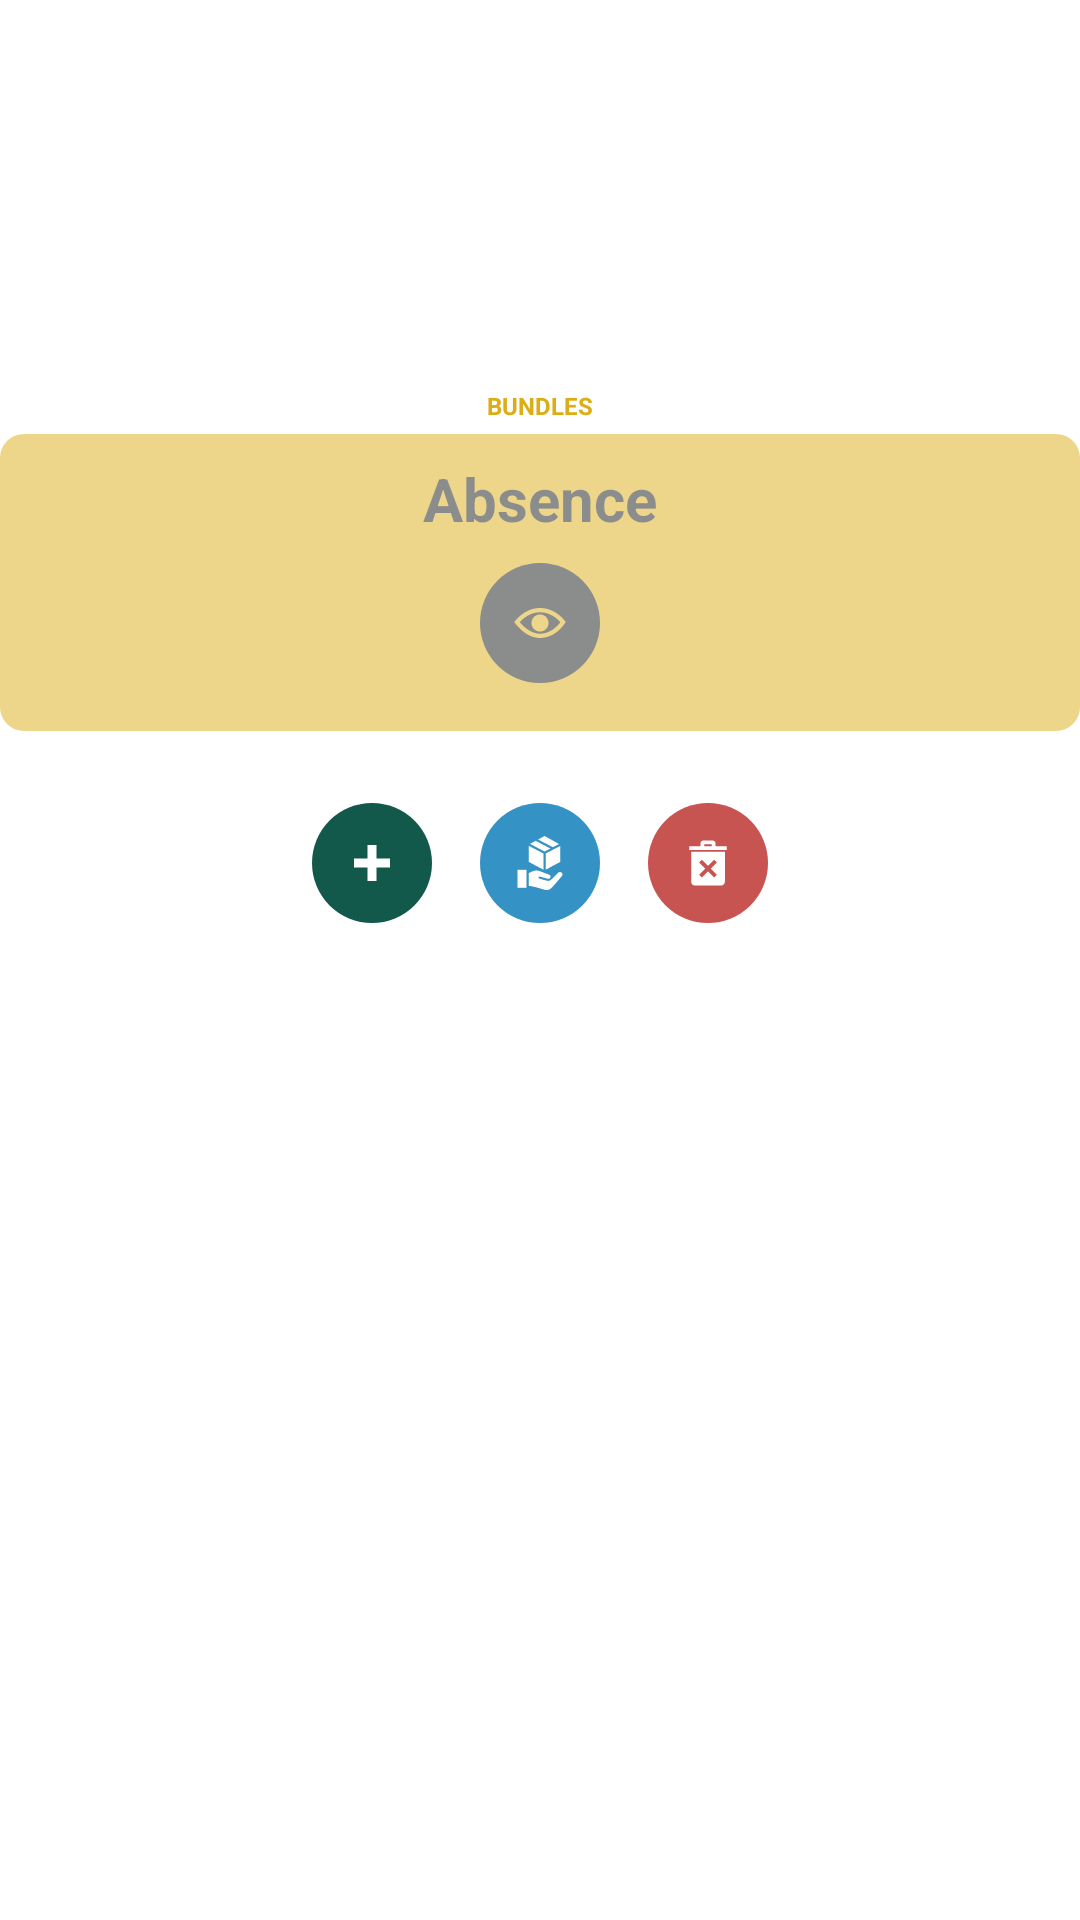

Icon bounding boxes for this 1080 x 1920 phone screenshot, format detection(x1, y1, x2, y2):
eye: detection(480, 563, 600, 683)
plus: detection(312, 803, 432, 923)
product: detection(480, 803, 600, 923)
trash: detection(648, 803, 768, 923)
